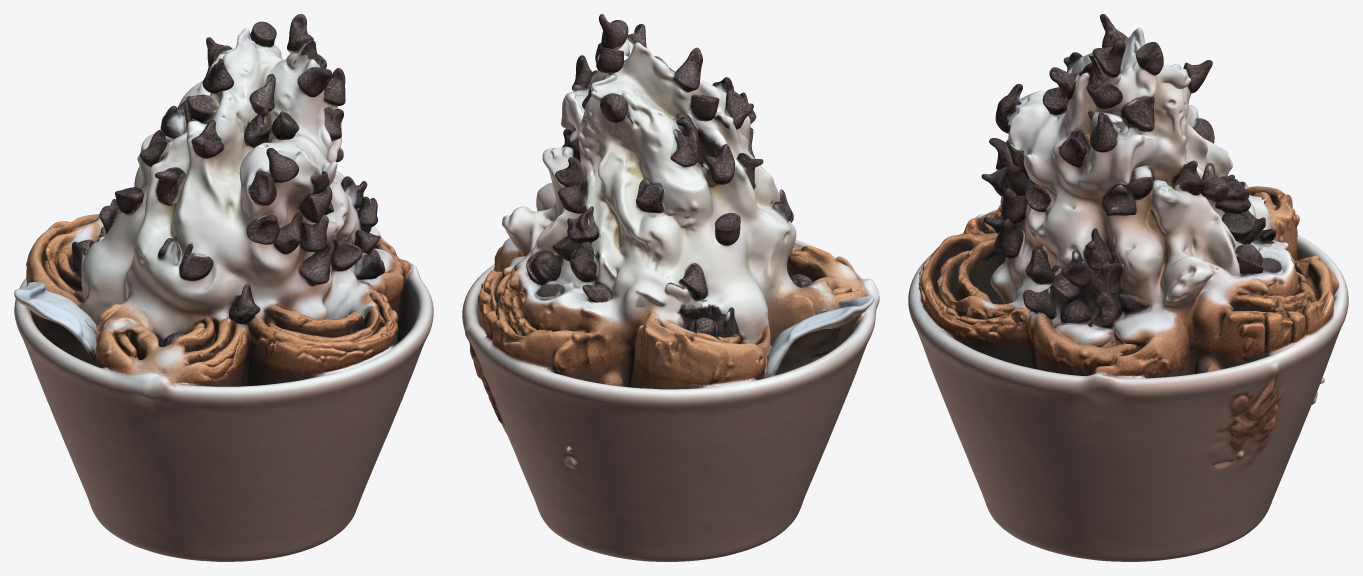
File: ICECREM-v1.glb
3 views of the same model, side by side, from view 1: azimuth 30°, elevation 25°; view 2: azimuth 150°, elevation 25°; view 3: azimuth 270°, elevation 25° (orthographic). The views are drawn at different scales.
Visible parts, largest first — view 1: tripo_node_ab4bc11a-5d8c-45e5-aee1-2ef6858d609a; view 2: tripo_node_ab4bc11a-5d8c-45e5-aee1-2ef6858d609a; view 3: tripo_node_ab4bc11a-5d8c-45e5-aee1-2ef6858d609a.
Boxes of the visible parts, x1,y1,x2,y2 form: tripo_node_ab4bc11a-5d8c-45e5-aee1-2ef6858d609a: [14, 14, 433, 561]; tripo_node_ab4bc11a-5d8c-45e5-aee1-2ef6858d609a: [462, 14, 879, 561]; tripo_node_ab4bc11a-5d8c-45e5-aee1-2ef6858d609a: [908, 14, 1348, 561].
Bounding box in the file's own units: 0.839 × 1 × 0.7929.
Materials: 1 (1 with a texture image).
